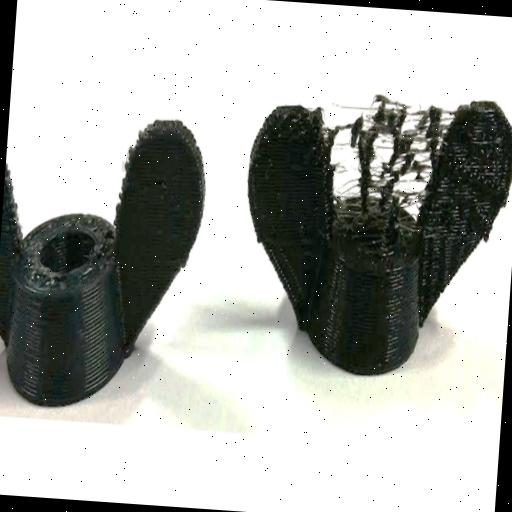stringing: (319, 90, 456, 249)
